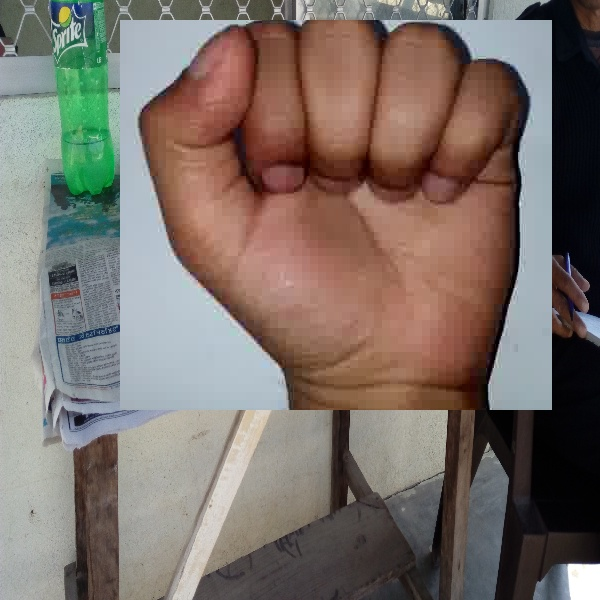A: (120, 20, 552, 410)
